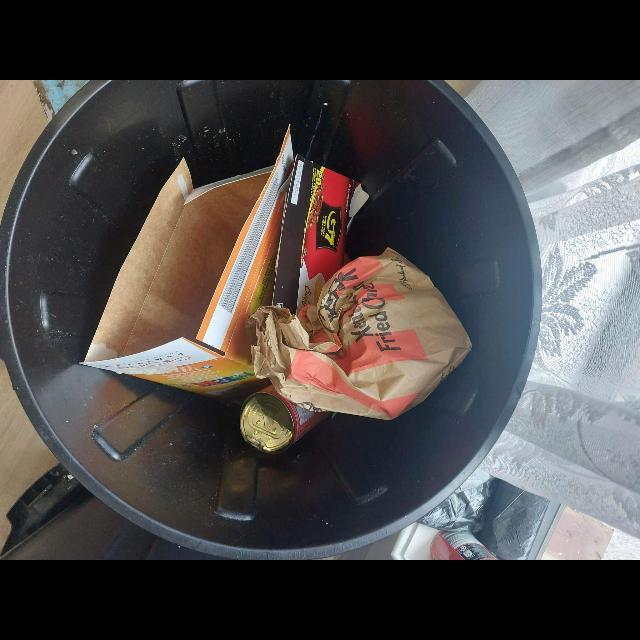aluminum: (240, 384, 330, 455)
cardboard: (81, 128, 293, 394), (272, 155, 369, 316)
paper: (248, 248, 472, 421)
